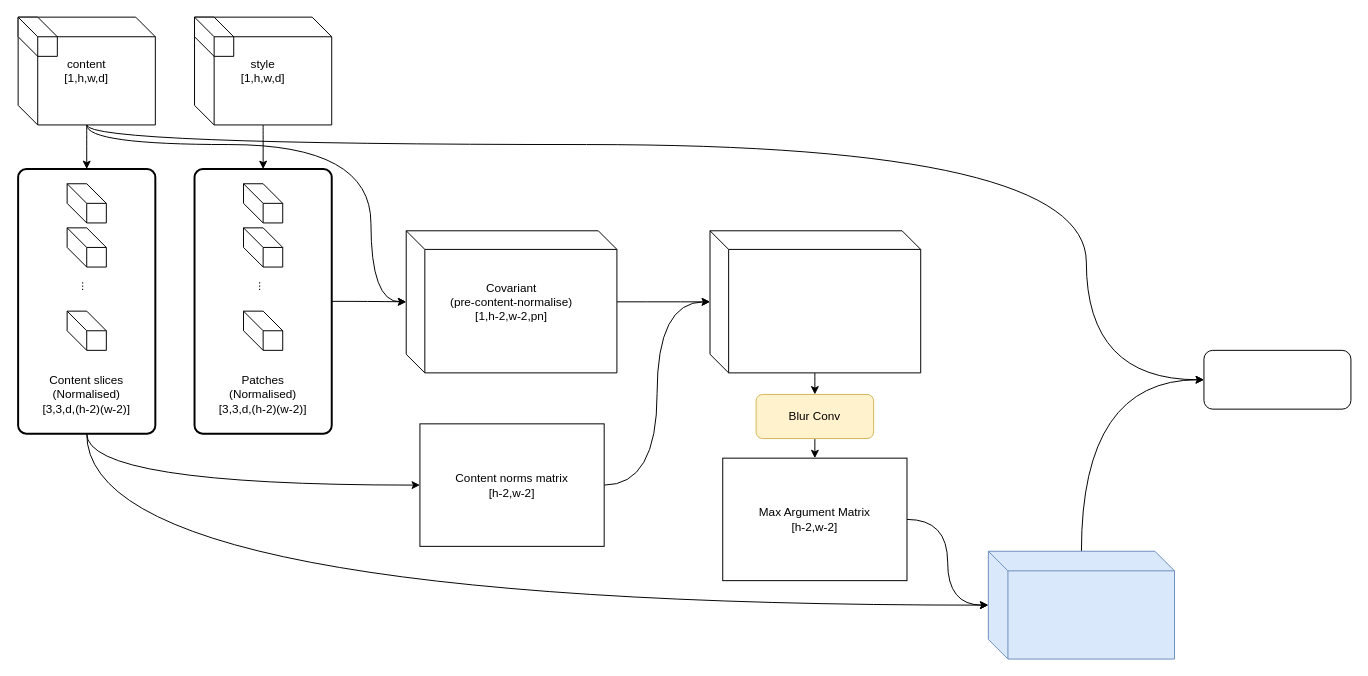
Image size: 1368x676. Some labels were removed from this diagram. The shapes that lost their labels are listed below. From the top down, each one's centre as x and y in pixels, then its label:
the point at 815,301: Covariant [1,h-2,w-2,pn]
the point at 1277,379: Patch cost
the point at 1081,604: Patch Tensor [1,h,w,d]
